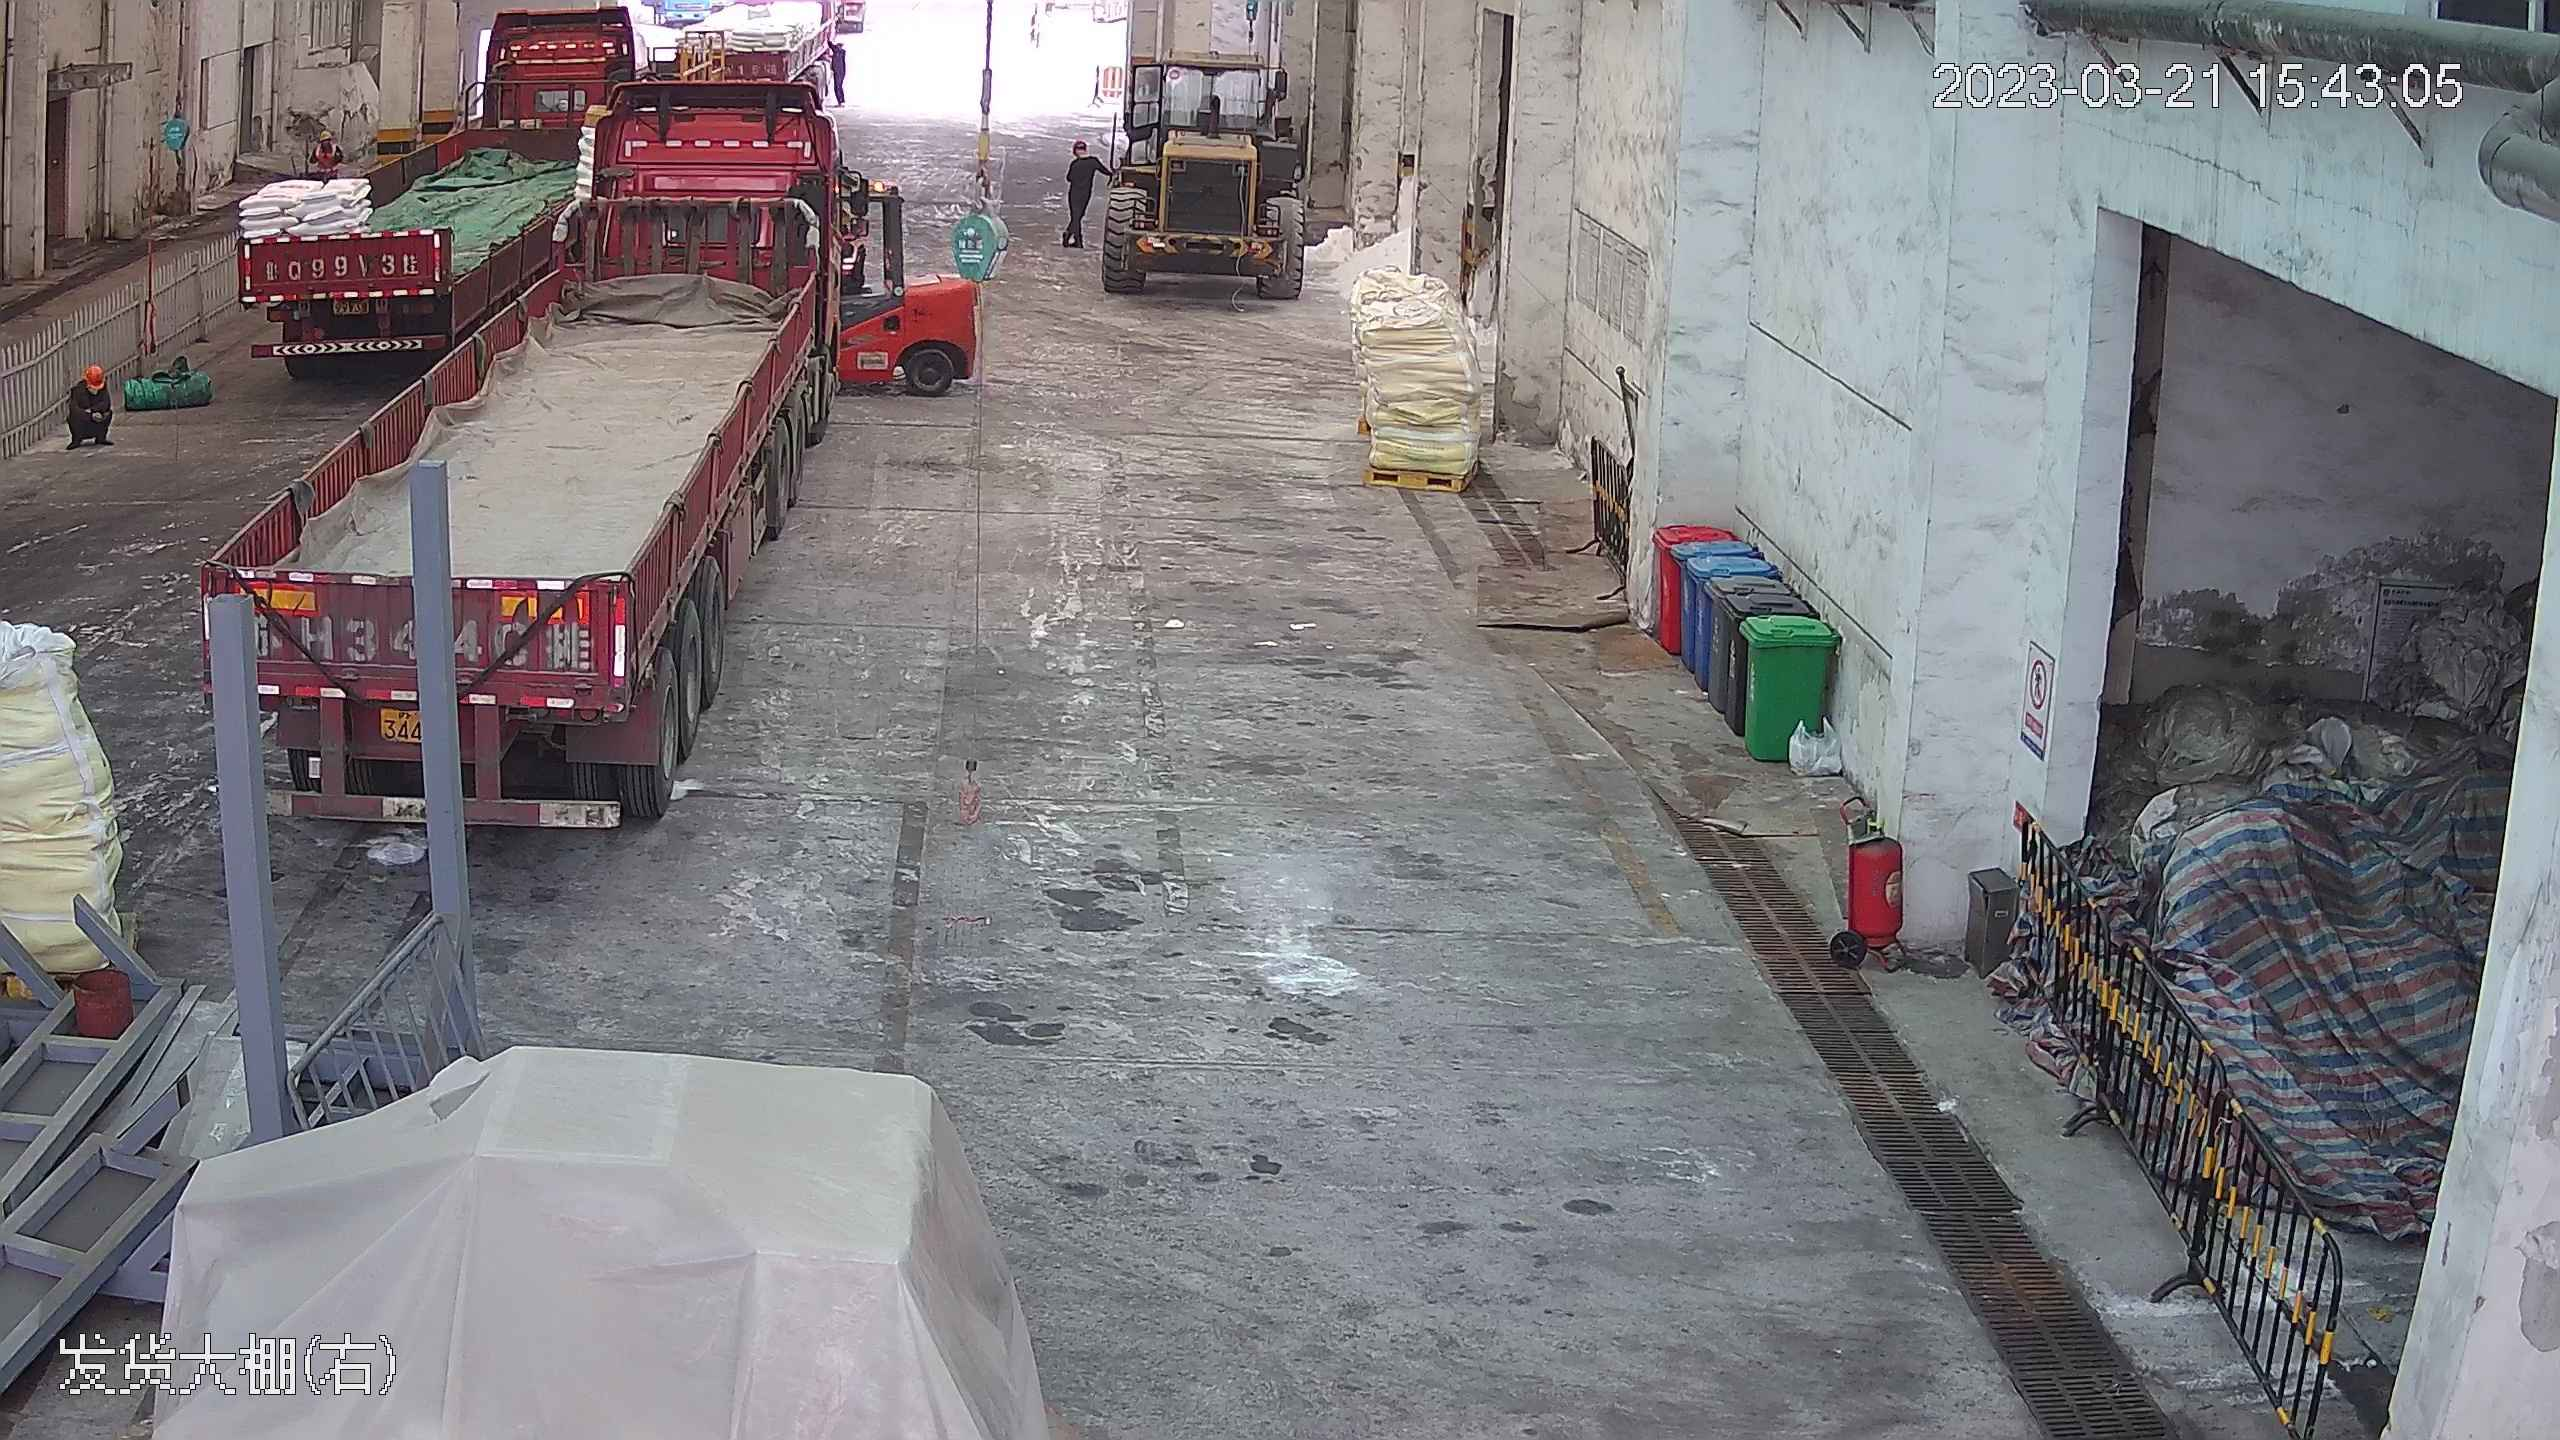head: (72, 357, 111, 401), (1060, 136, 1096, 174), (312, 128, 343, 161)
helmet: (82, 365, 107, 390), (317, 130, 332, 142), (1070, 140, 1086, 151)
people: (1055, 134, 1100, 250), (64, 359, 113, 448)
truck: (215, 17, 856, 843), (213, 6, 609, 382)
